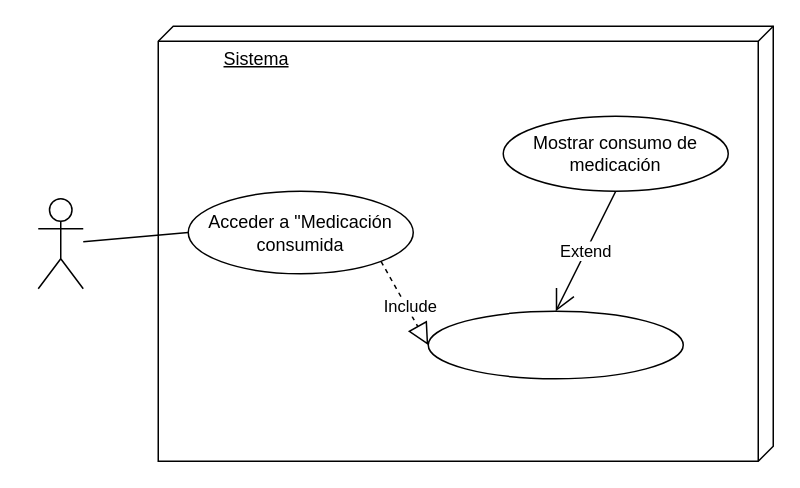
This 800x488 diagram has some shape labels left out. The box of each missing label's shape, as (x1, y1, x2, y2) in pixels:
Paciente: (37, 197, 83, 289)
Seleccionar medicamento registrado: (427, 310, 683, 379)
